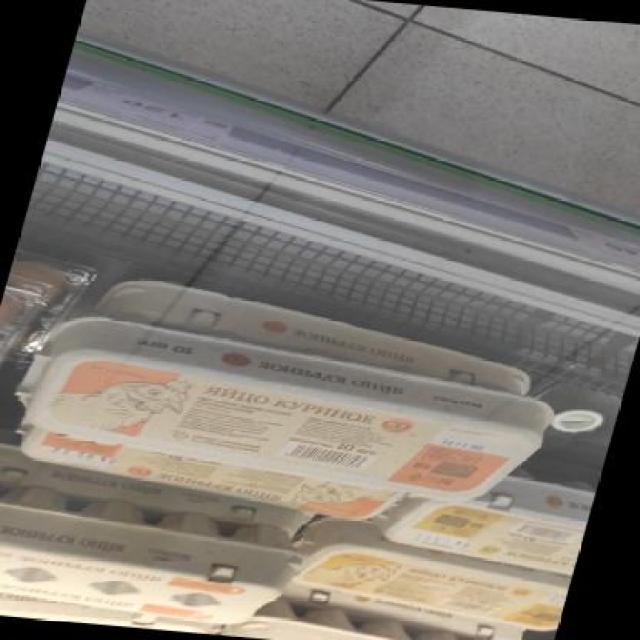Egg: (0, 311, 578, 512)
